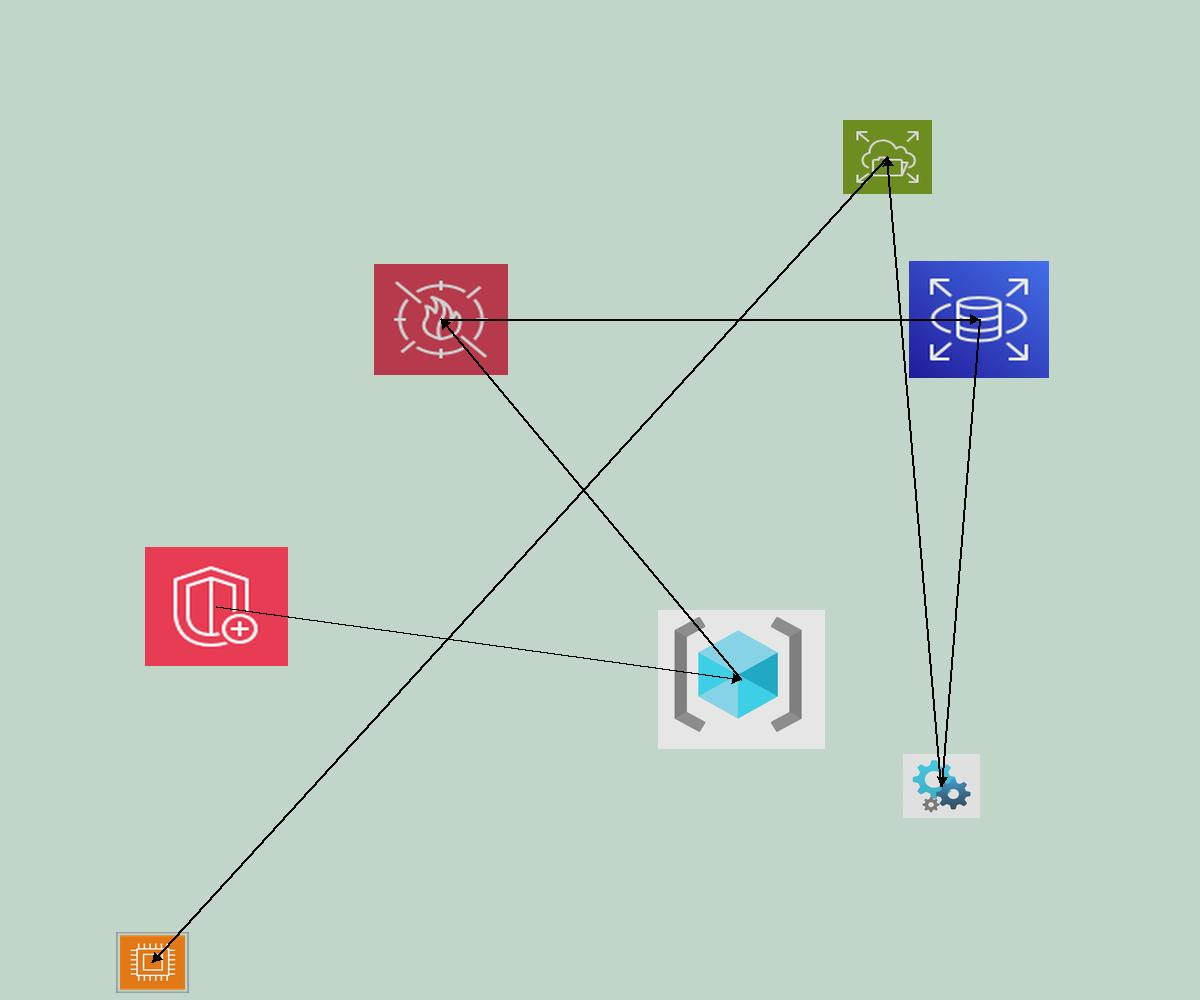AWS-Category_Compute: (116, 932, 189, 993)
AWS-EFS: (843, 120, 932, 194)
AWS-RDS: (909, 261, 1049, 378)
AWS-Shield: (145, 547, 288, 666)
AWS-WAF: (374, 264, 508, 375)
Azure_api: (903, 754, 980, 818)
Azure_resource_group: (658, 610, 825, 749)
